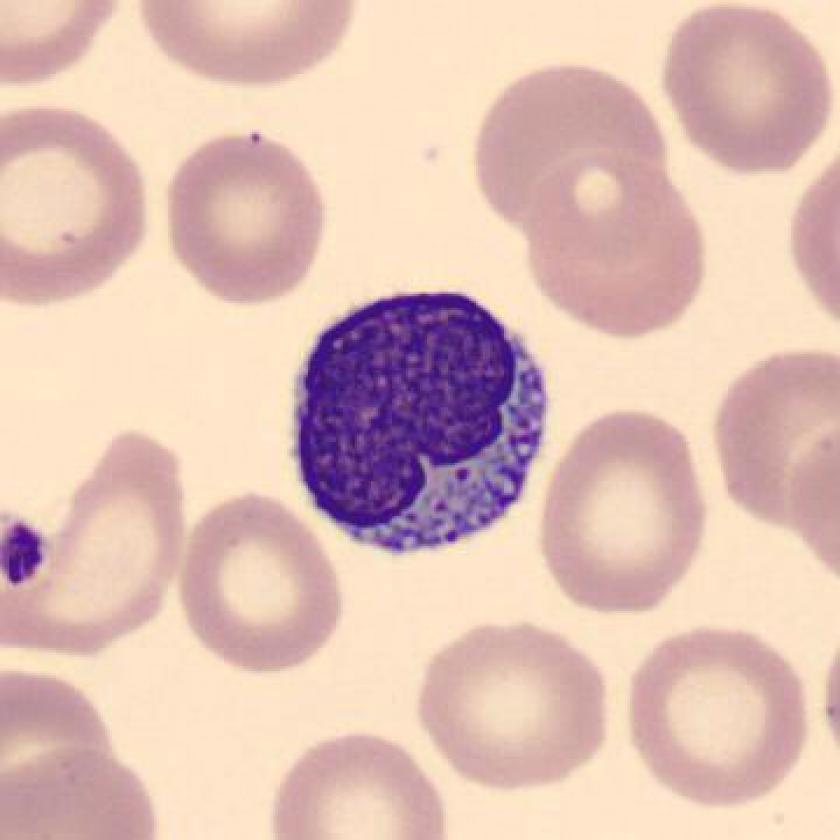lymphocyte: (279, 276, 566, 575)
